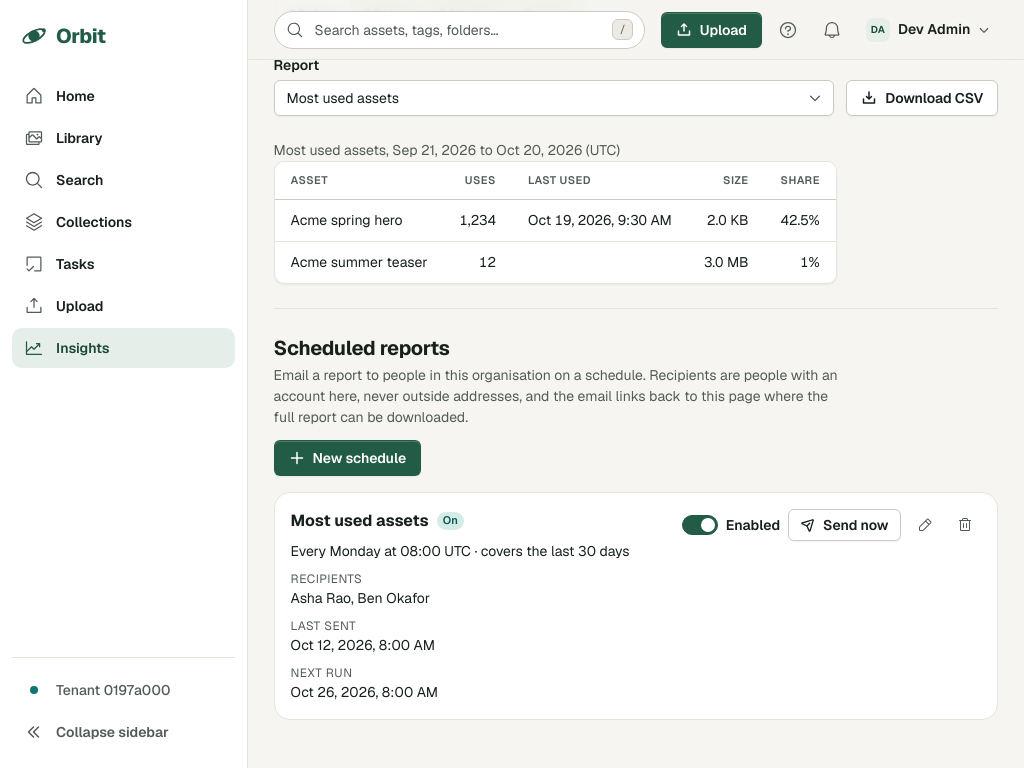
Scenario: Schedules list › deletes only after confirming
This screenshot has width=1024, height=768.
(page scrolled)
Click the button named "Delete schedule for Most used assets": (965, 525) left=949, top=509, right=981, bottom=541
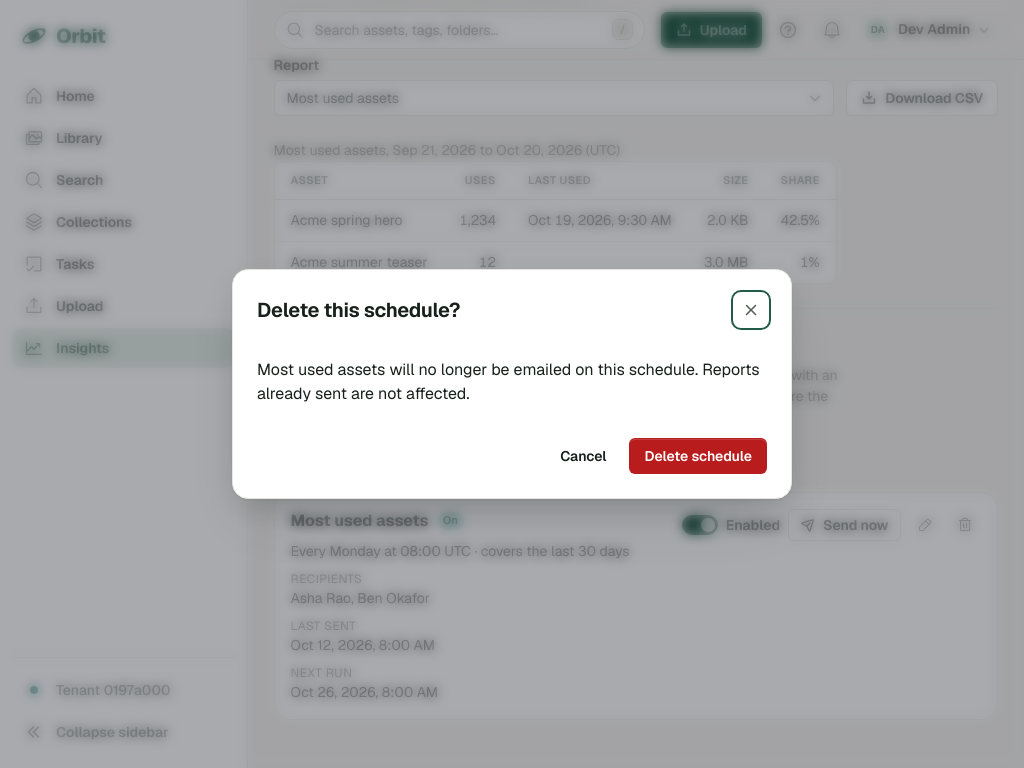
Click the button "Cancel": (583, 456) left=545, top=438, right=622, bottom=474
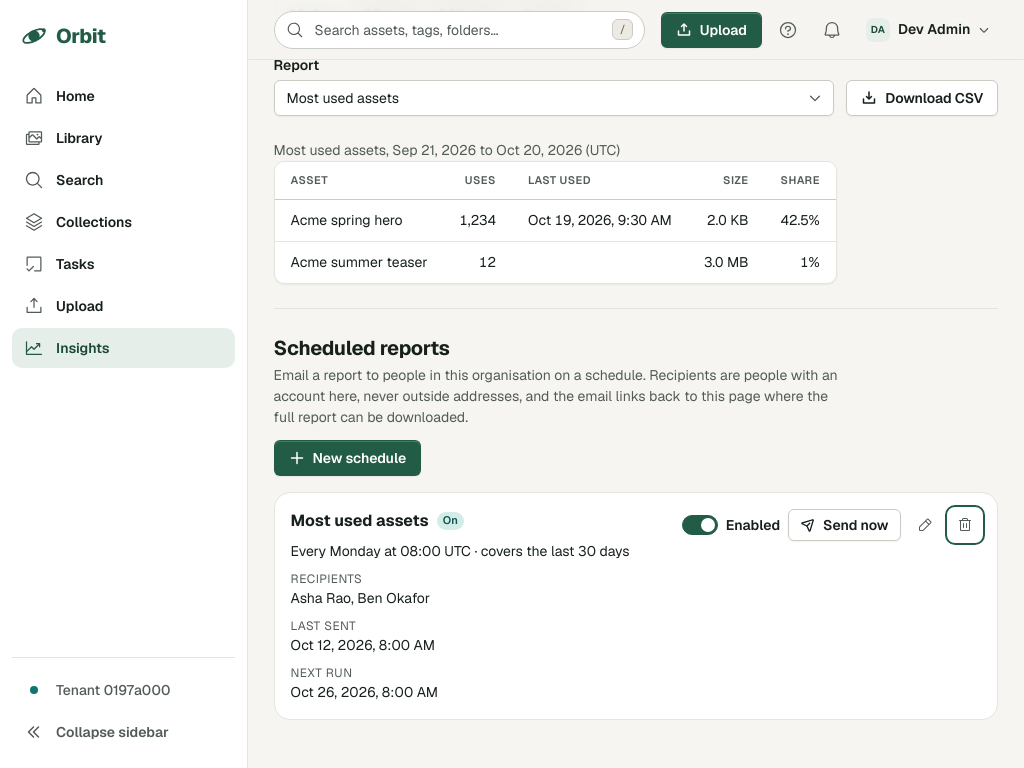
Click the button named "Delete schedule for Most used assets": (965, 525) left=949, top=509, right=981, bottom=541
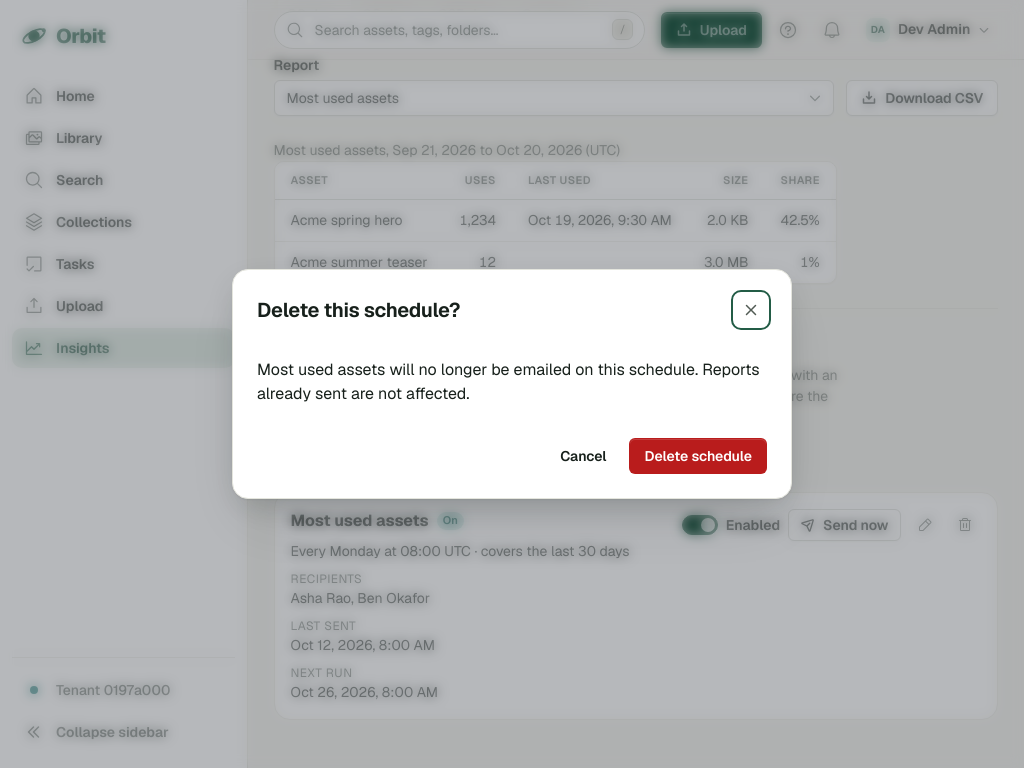
Now the text "will no longer be emailed on this schedule" is shown, box left=257, top=359, right=760, bottom=404
Click the button "Delete schedule": (698, 456) left=630, top=438, right=767, bottom=474
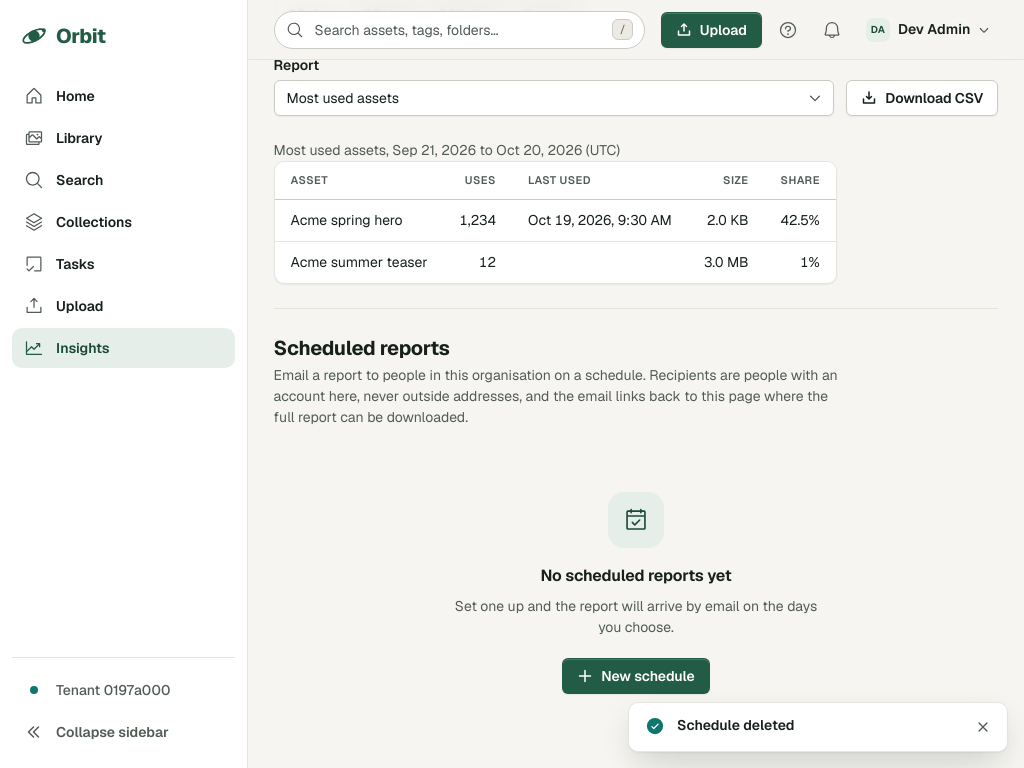
Now the text "Schedule deleted" is shown, box left=677, top=716, right=794, bottom=734
Now the heading "No scheduled reports yet" is shown, box left=540, top=564, right=732, bottom=588
